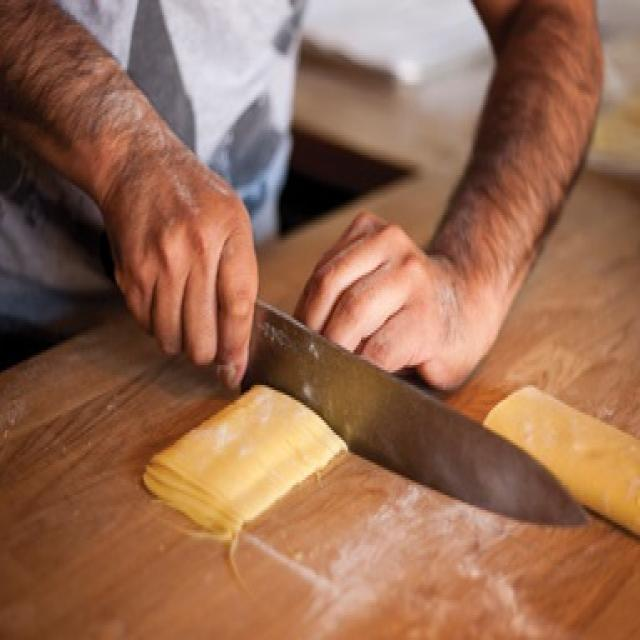knife: (257, 303, 595, 540)
